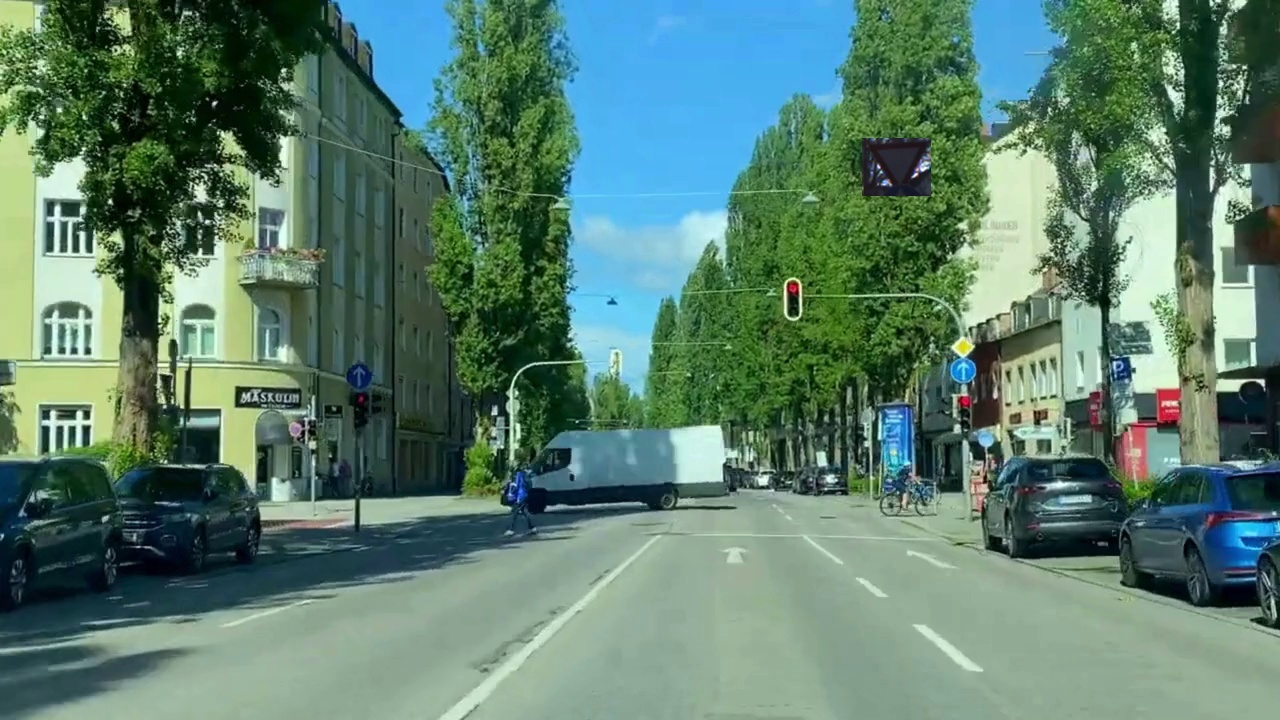Yield: (862, 138, 931, 196)
